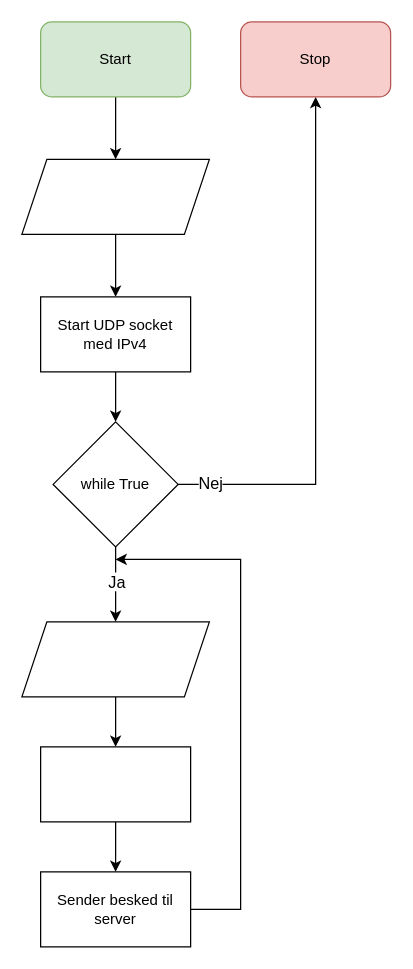
The diagram is 413 pixels wide and 969 high, and some of its shapes have lost their labels. Each missing label, with the centre of its shape:
"Encoder besked til bytes" belongs at [115,784].
"Indtast besked til serveren" belongs at [115,659].
"Indtast destinations IP-adresse og port 12345" belongs at [115,196].
